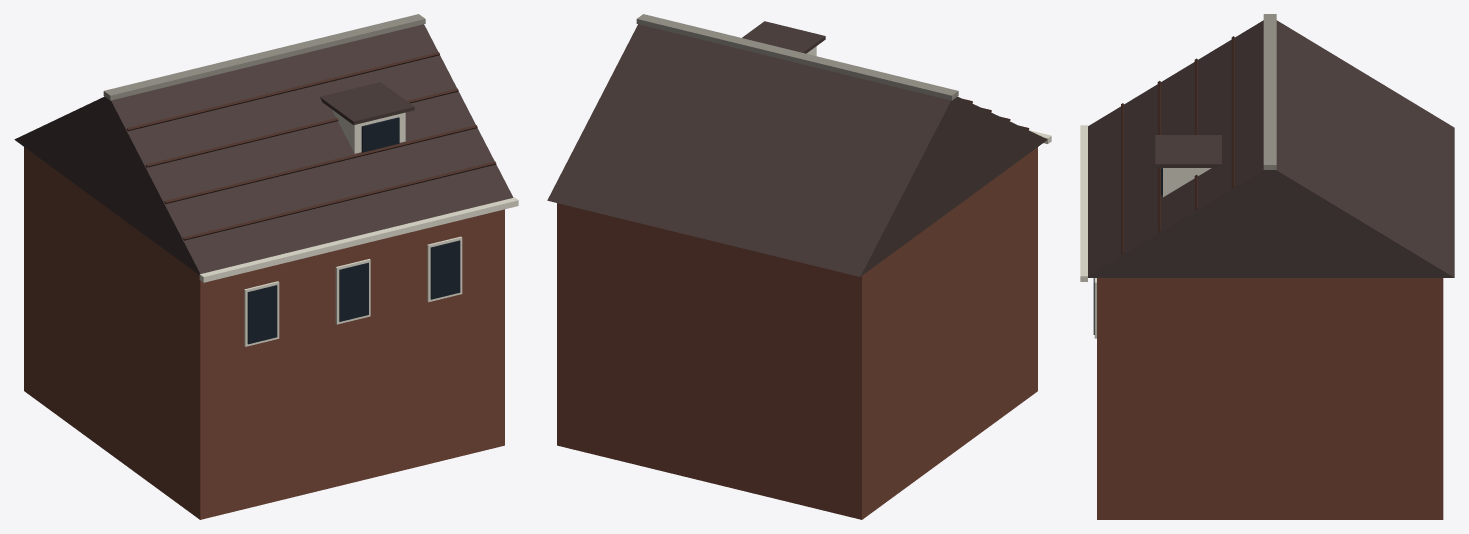
File: dakhuis.glb
3 renders of one model, left to right at view 1: azimuth 30°, elevation 25°; view 2: azimuth 150°, elevation 25°; view 3: azimuth 270°, elevation 25°, orthographic.
Parts seen in each view (by area): view 1: Dakhuis; view 2: Dakhuis; view 3: Dakhuis.
Part boxes in pixels (<box>): Dakhuis: <box>14,14,518,519</box>; Dakhuis: <box>547,14,1051,519</box>; Dakhuis: <box>1080,14,1454,519</box>.
Size of the model in its own units: 9.3 by 10.25 by 9.74.
